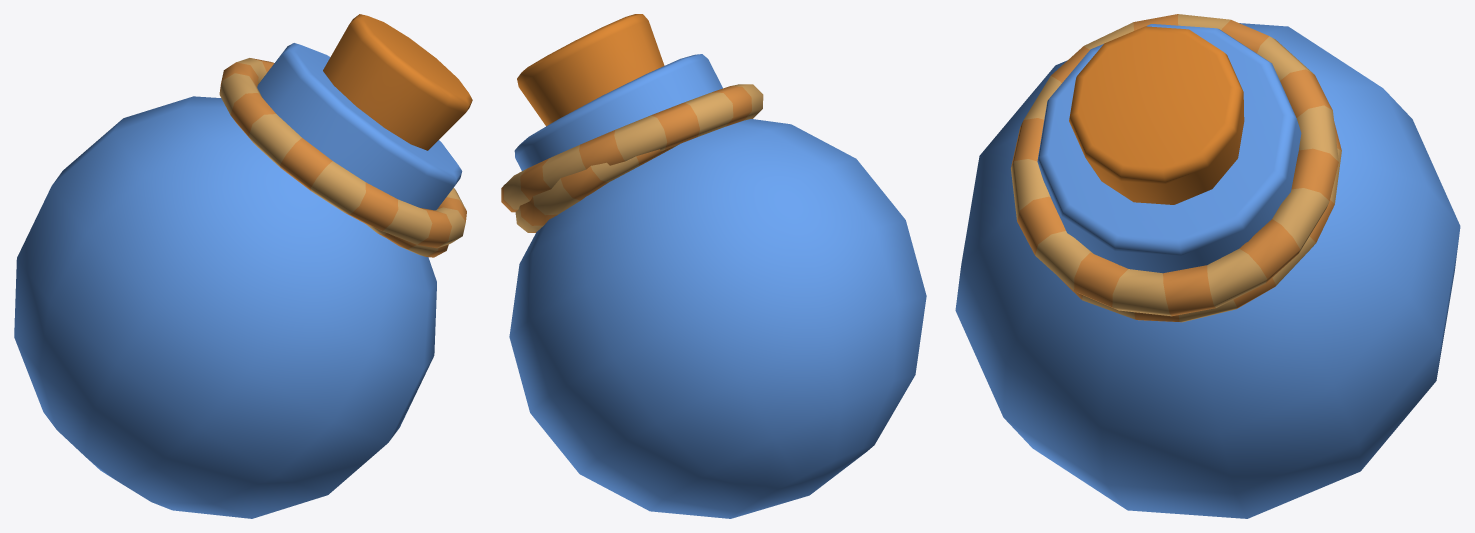
3 views of the same model, side by side, from view 1: azimuth 30°, elevation 25°; view 2: azimuth 150°, elevation 25°; view 3: azimuth 270°, elevation 25° (orthographic). The views are drawn at different scales.
Visible parts, largest first — view 1: model_1.116; view 2: model_1.116; view 3: model_1.116.
Part boxes in pixels (<box>): model_1.116: <box>14,14,472,518</box>; model_1.116: <box>501,14,926,518</box>; model_1.116: <box>955,14,1460,518</box>.
Size of the model in its own units: 3.32 by 3.59 by 3.09.
